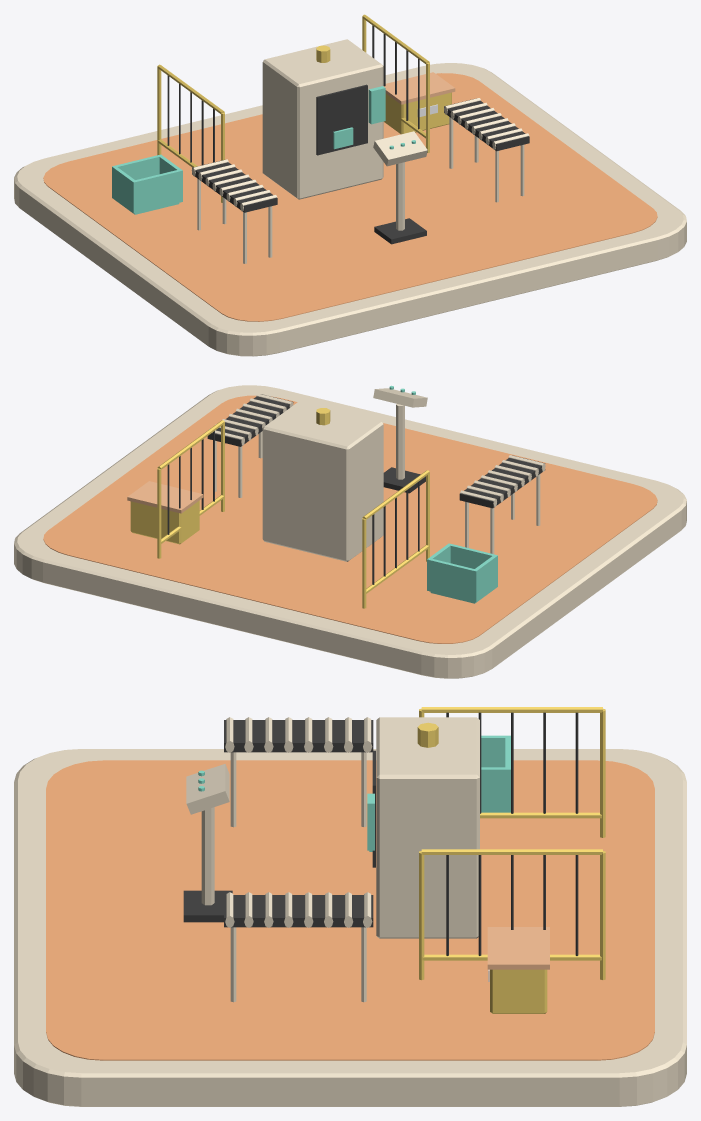
3 views of the same model, one above another, from view 1: azimuth 30°, elevation 25°; view 2: azimuth 150°, elevation 25°; view 3: azimuth 270°, elevation 25° (orthographic). The views are drawn at different scales.
Parts seen in each view (by area): view 1: COM-02 Floor Surface, COM-01 Rounded Base Direct, Machine, Cabinet window, Box, Belt.001, Belt, Bin end, Control console, Lid, Bin side, Foot (+3 smaller); view 2: COM-02 Floor Surface, COM-01 Rounded Base Direct, Machine, Box, Belt, Bin end.001, Belt.001, Lid, Bin side, Bin end, Control console, Stand (+3 smaller); view 3: COM-02 Floor Surface, COM-01 Rounded Base Direct, Machine, Belt.001, Belt, Lid, Box, Control console, Bin side.001, Stand, Foot, Rail.003 (+7 smaller).
Boxes of the visible parts, box(x1,y1,x2,y2) form: COM-02 Floor Surface: box(43, 73, 657, 321); COM-01 Rounded Base Direct: box(14, 63, 686, 356); Machine: box(262, 39, 383, 199); Cabinet window: box(316, 84, 367, 155); Box: box(384, 92, 451, 134); Belt.001: box(444, 98, 529, 151); Belt: box(192, 160, 277, 212); Bin end: box(134, 169, 180, 213); Control console: box(373, 131, 427, 166); Lid: box(383, 72, 455, 104); Bin side: box(112, 165, 136, 213); Foot: box(374, 218, 426, 244); COM-02 Floor Surface: box(43, 395, 657, 643); COM-01 Rounded Base Direct: box(14, 385, 686, 678); Machine: box(262, 401, 383, 561); Box: box(130, 500, 199, 544); Belt: box(459, 455, 545, 508); Bin end.001: box(429, 558, 474, 601); Belt.001: box(207, 394, 293, 446); Lid: box(127, 481, 203, 513); Bin side: box(473, 555, 497, 602); Bin end: box(450, 544, 495, 568); Control console: box(373, 388, 427, 407); Stand: box(396, 404, 404, 479); COM-02 Floor Surface: box(46, 760, 654, 1060); COM-01 Rounded Base Direct: box(14, 749, 686, 1106); Machine: box(376, 717, 479, 938); Belt.001: box(224, 895, 373, 927); Belt: box(224, 720, 373, 752); Lid: box(487, 927, 549, 969); Box: box(490, 969, 547, 1013); Control console: box(186, 764, 229, 814); Bin side.001: box(481, 767, 510, 812); Stand: box(201, 807, 214, 905); Foot: box(183, 890, 232, 922); Rail.003: box(421, 849, 602, 854).
Bounding box in the file's own units: 6 × 1.86 × 5.2.
1 material, 1 textured.
